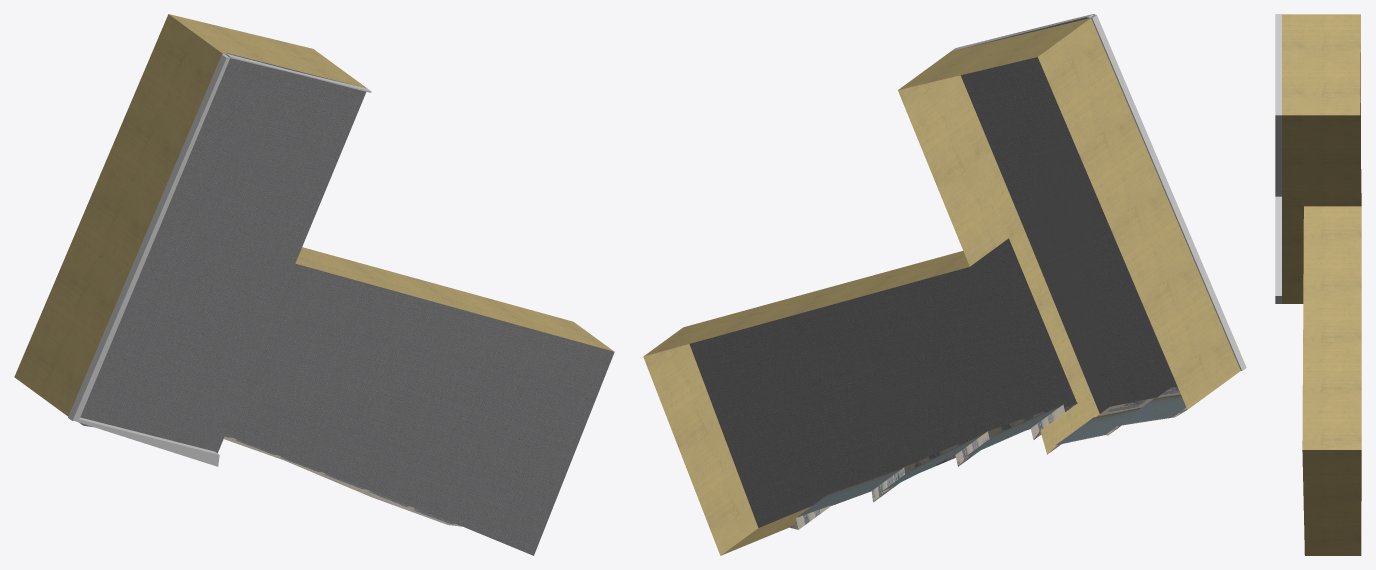
Rendered from Vana-posti_3_3a-origo.obj.
3 renders of one model, left to right at view 1: azimuth 30°, elevation 25°; view 2: azimuth 150°, elevation 25°; view 3: azimuth 270°, elevation 25°, orthographic. The views are drawn at different scales.
Visible parts, largest first — view 1: Vana_Post_3_3a, xxx; view 2: Vana_Post_3_3a, xxx; view 3: xxx, Vana_Post_3_3a.
Boxes of the visible parts, x1=… form: Vana_Post_3_3a: x1=14, y1=14, x2=614, y2=555; xxx: x1=295, y1=247, x2=613, y2=351; Vana_Post_3_3a: x1=689, y1=14, x2=1246, y2=555; xxx: x1=643, y1=251, x2=969, y2=555; xxx: x1=1302, y1=206, x2=1361, y2=555; Vana_Post_3_3a: x1=1275, y1=14, x2=1361, y2=303.
Bounding box in the file's own units: 25.25 × 25.5 × 4.68.
